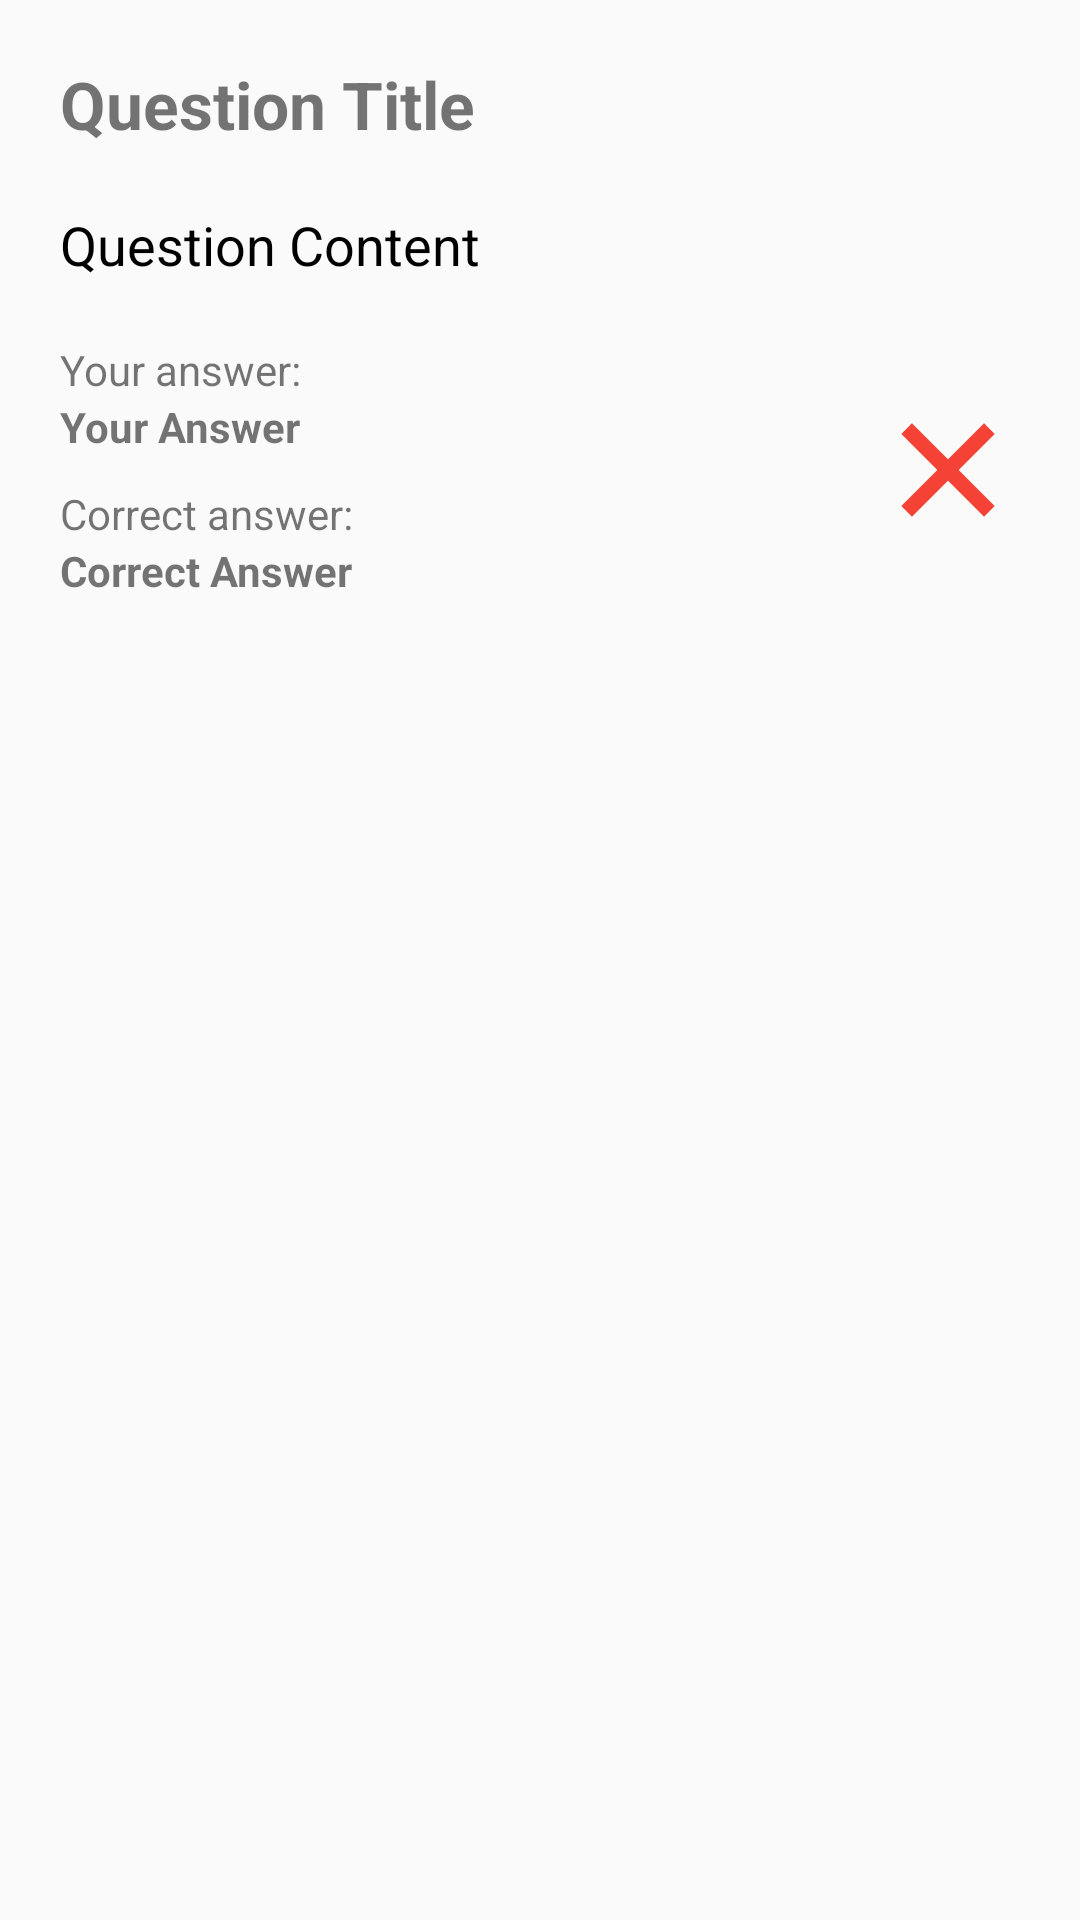

Point at icon controls on the screen. Image size 1080*1920, points as point (x, y).
cross: point (948, 470)
